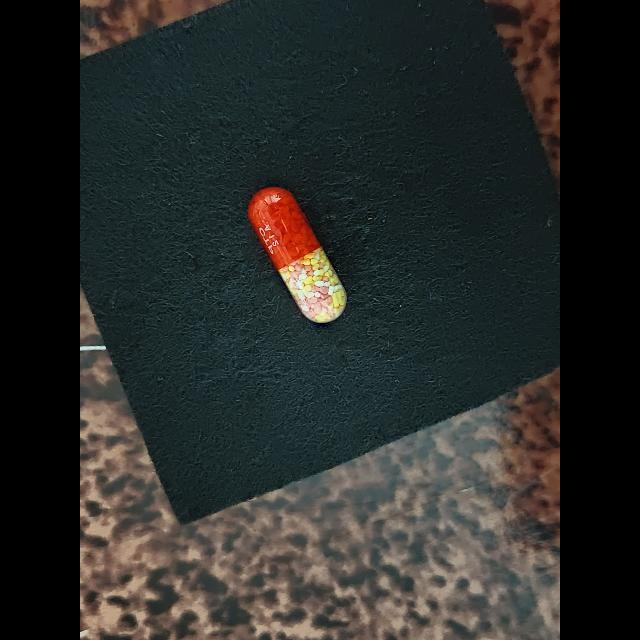Intact Capsule: (248, 187, 347, 323)
